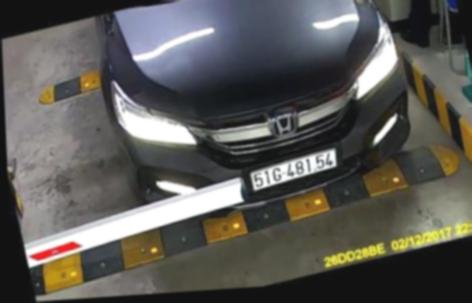License_Plate: (247, 148, 343, 198)
